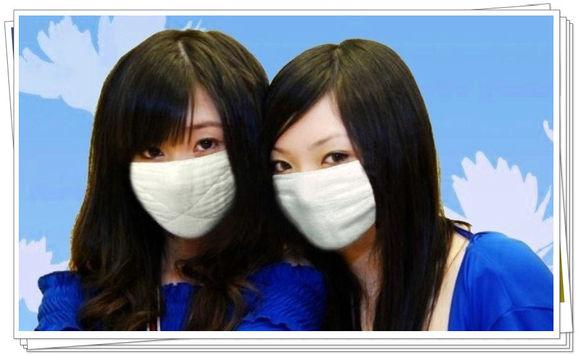OK: (130, 96, 244, 236), (270, 119, 378, 252)
